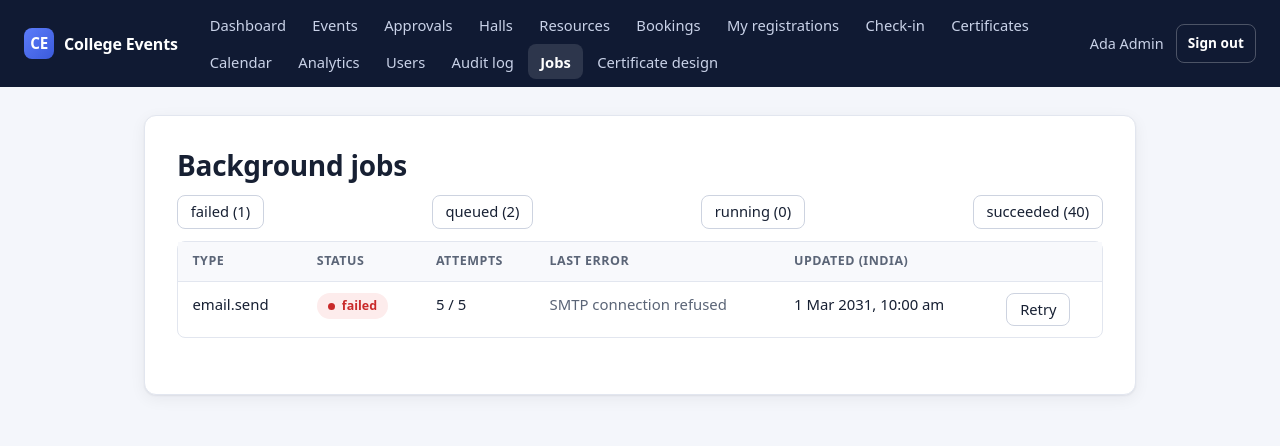
Test: background jobs page › shows the server message when the job cannot be retried
Click the button with aria-label "Retry email.send job" at (1038, 310), box top-left (1006, 293), bottom-right (1070, 326)
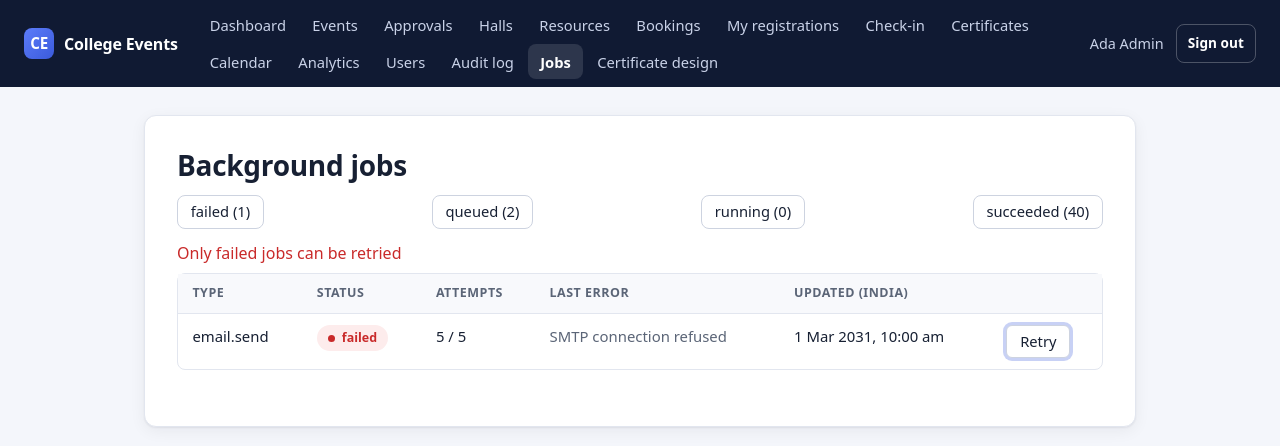
Expected: the message reads "Only failed jobs can be retried", top-left (177, 242), bottom-right (402, 264)
